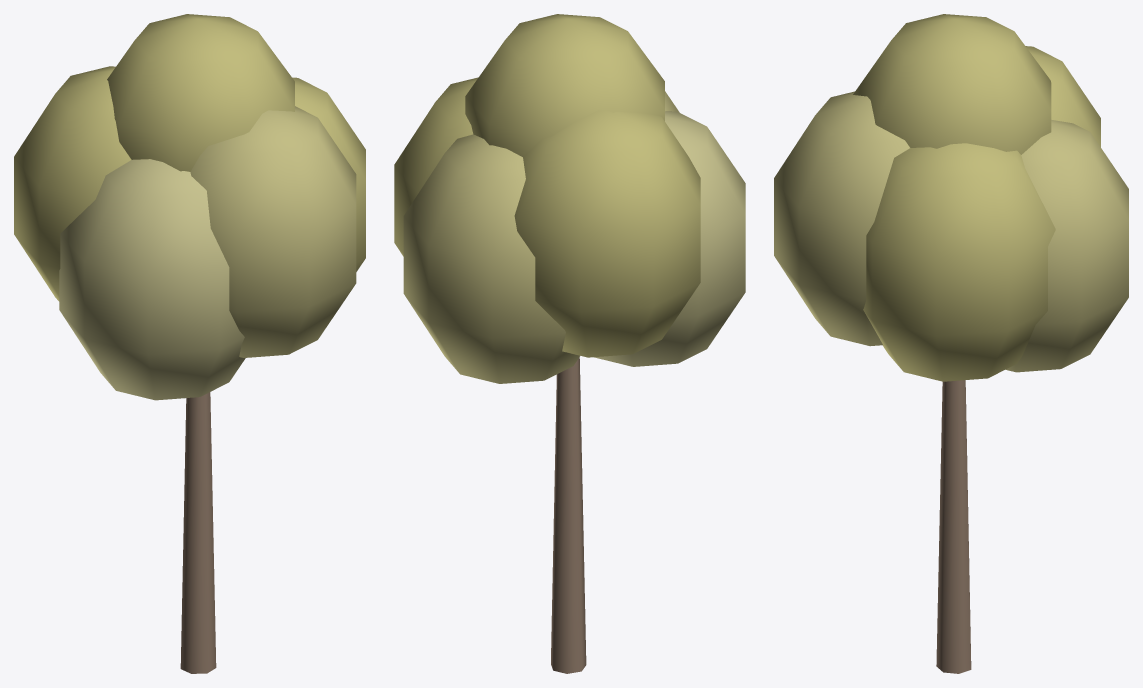
3 renders of one model, left to right at view 1: azimuth 30°, elevation 25°; view 2: azimuth 150°, elevation 25°; view 3: azimuth 270°, elevation 25°, orthographic.
Visible parts, largest first — view 1: Visual; view 2: Visual; view 3: Visual.
Boxes of the visible parts, left/top/right/bottom form: Visual: left=14, top=14, right=365, bottom=673; Visual: left=394, top=14, right=745, bottom=673; Visual: left=774, top=14, right=1128, bottom=673.
Size of the model in its own units: 9.12 by 18.56 by 9.22.
